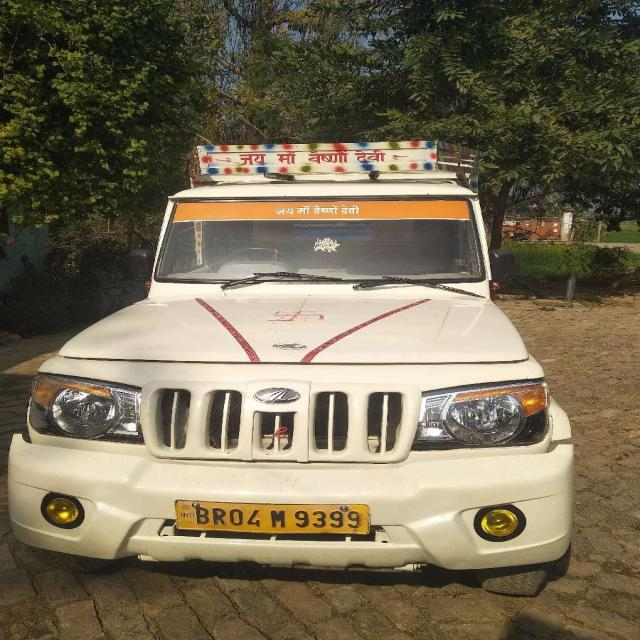light_vehicle: (8, 188, 560, 560)
